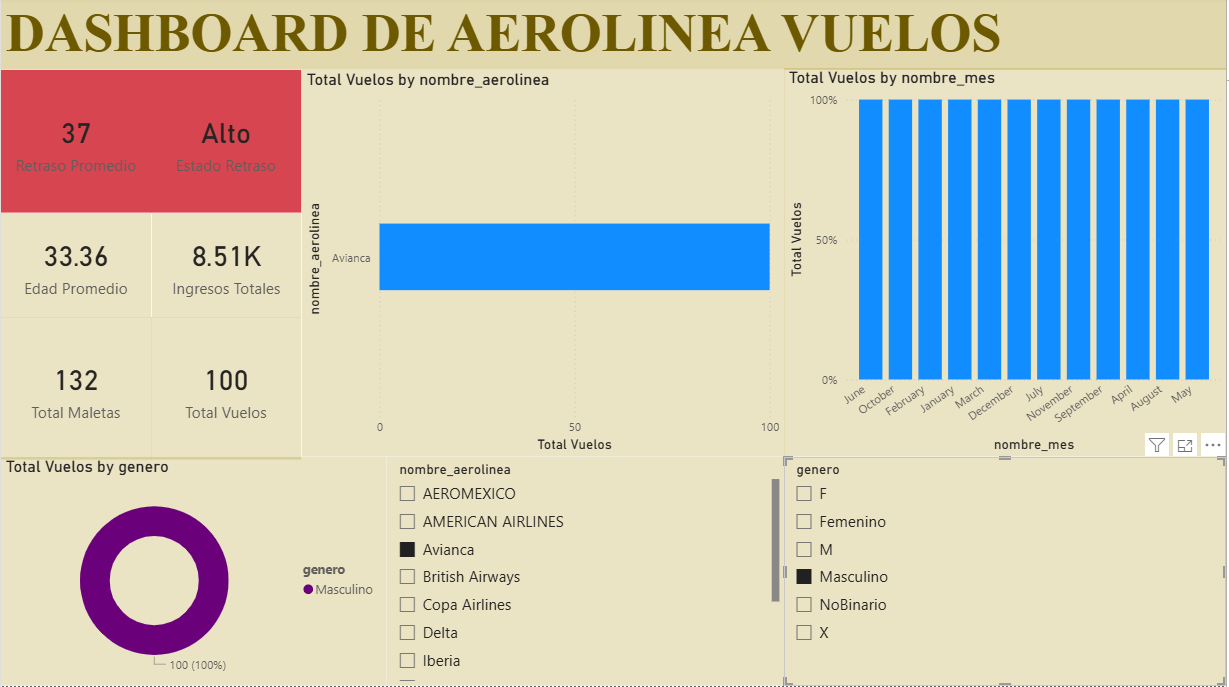

Layout of this report page (visuals, bound fields, positions):
{"tool":"powerbi","page":{"name":"Page 1","canvas":[1280,720],"ordinal":0},"visuals":[{"type":"textbox","box":[0,0,1280,76.3],"z":0},{"type":"card","fields":{"Values":["Dim_Aerolinea.Retraso Promedio"]},"box":[0,76.3,156.7,149.4],"z":1000},{"type":"card","fields":{"Values":["Dim_Aerolinea.Estado Retraso"]},"box":[156.7,76.3,156.7,149.4],"z":1001},{"type":"card","fields":{"Values":["Dim_Aerolinea.Edad Promedio"]},"box":[0,225.7,156.7,108.7],"z":1002},{"type":"card","fields":{"Values":["Dim_Aerolinea.Total Maletas"]},"box":[0,334.4,156.7,149.4],"z":1003},{"type":"card","fields":{"Values":["Dim_Aerolinea.Total Vuelos"]},"box":[156.7,334.4,156.7,149.4],"z":1004},{"type":"card","fields":{"Values":["Dim_Aerolinea.Ingresos Totales"]},"box":[157.8,225.7,155.7,108.7],"z":1005},{"type":"barChart","fields":{"Category":["Dim_Aerolinea.nombre_aerolinea"],"Y":["Dim_Aerolinea.Total Vuelos"]},"box":[314.5,76.3,503.6,404.4],"z":1006},{"type":"donutChart","fields":{"Category":["Dim_Pasajero.genero"],"Y":["Dim_Aerolinea.Total Vuelos"]},"box":[0,480.7,403.3,239.3],"z":1007},{"type":"hundredPercentStackedColumnChart","fields":{"Y":["Dim_Aerolinea.Total Vuelos"],"Category":["Dim_Tiempo.nombre_mes"]},"box":[818.2,74.2,461.8,406.5],"z":1008},{"type":"slicer","fields":{"Values":["Dim_Aerolinea.nombre_aerolinea"]},"box":[403.3,480.7,414.8,239.3],"z":1009},{"type":"slicer","fields":{"Values":["Dim_Pasajero.genero"]},"box":[818.2,480.7,461.8,239.3],"z":1010}]}

Visuals, with their boxes in screenshot pixels (x1, y1, x2, y2), scaled from the page's 1280x720 canvas onto the 1229x687 screenshot:
textbox: region(0, 0, 1228, 73)
card - Dim_Aerolinea.Retraso Promedio: region(0, 73, 150, 215)
card - Dim_Aerolinea.Estado Retraso: region(150, 73, 301, 215)
card - Dim_Aerolinea.Edad Promedio: region(0, 215, 150, 319)
card - Dim_Aerolinea.Total Maletas: region(0, 319, 150, 462)
card - Dim_Aerolinea.Total Vuelos: region(150, 319, 301, 462)
card - Dim_Aerolinea.Ingresos Totales: region(152, 215, 301, 319)
barChart - Dim_Aerolinea.nombre_aerolinea x Dim_Aerolinea.Total Vuelos: region(302, 73, 786, 459)
donutChart - Dim_Pasajero.genero x Dim_Aerolinea.Total Vuelos: region(0, 459, 387, 686)
hundredPercentStackedColumnChart - Dim_Aerolinea.Total Vuelos x Dim_Tiempo.nombre_mes: region(786, 71, 1228, 459)
slicer - Dim_Aerolinea.nombre_aerolinea: region(387, 459, 786, 686)
slicer - Dim_Pasajero.genero: region(786, 459, 1228, 686)
